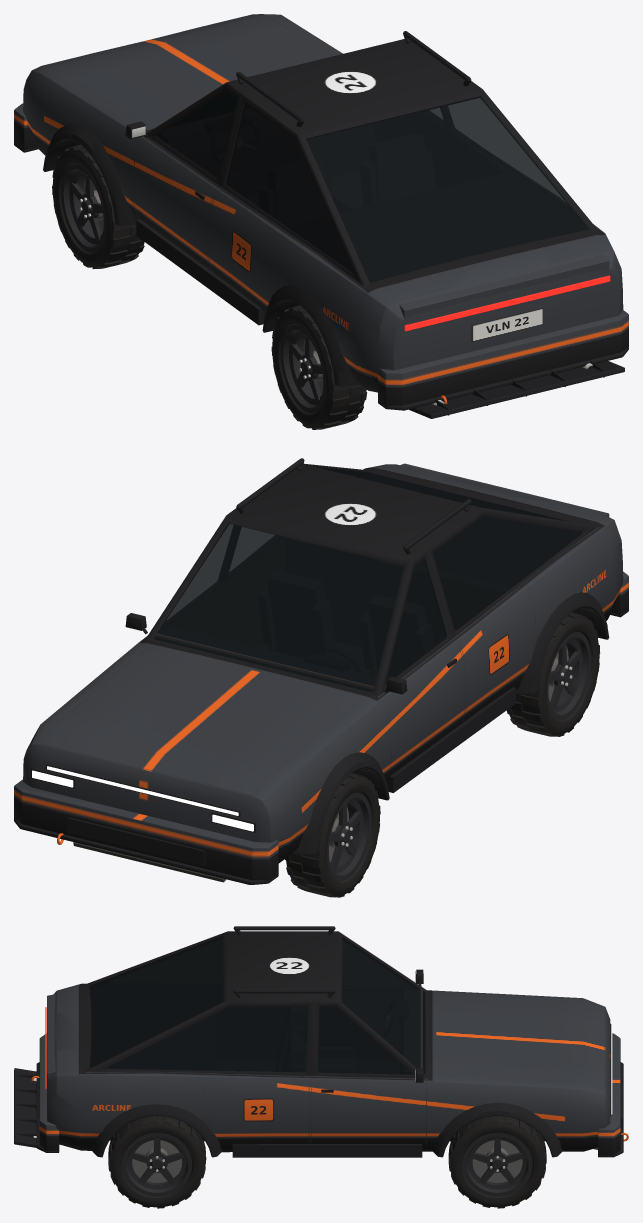
File: CAR-022_Export.fbx
3 views of the same model, one above another, from view 1: azimuth 30°, elevation 25°; view 2: azimuth 150°, elevation 25°; view 3: azimuth 270°, elevation 25° (orthographic). The views are drawn at different scales.
Visible parts, largest first — view 1: CAR-022_Body, CAR-022_Glass, CAR-022_Bumper_Rear, CAR-022_Accessories, CAR-022_Wheel_RL_Tire, CAR-022_Wheel_FL_Tire, CAR-022_Trim, CAR-022_Spoiler, CAR-022_Wheel_FL_Rim, CAR-022_Wheel_RL_Rim, CAR-022_Lights, CAR-022_Bumper_Front; view 2: CAR-022_Body, CAR-022_Glass, CAR-022_Bumper_Front, CAR-022_Trim, CAR-022_Wheel_FL_Tire, CAR-022_Wheel_RL_Tire, CAR-022_Wheel_FL_Rim, CAR-022_Wheel_RL_Rim, CAR-022_Lights, CAR-022_Accessories, CAR-022_Interior, CAR-022_Mirrors; view 3: CAR-022_Body, CAR-022_Glass, CAR-022_Wheel_RR_Tire, CAR-022_Wheel_FR_Tire, CAR-022_Wheel_RR_Rim, CAR-022_Wheel_FR_Rim, CAR-022_Trim, CAR-022_Accessories, CAR-022_Bumper_Front, CAR-022_Bumper_Rear, CAR-022_Spoiler, CAR-022_Lights.
Boxes of the visible parts, bbox=[...] form: CAR-022_Body: bbox=[23, 14, 623, 392]; CAR-022_Glass: bbox=[157, 90, 588, 282]; CAR-022_Bumper_Rear: bbox=[378, 310, 628, 410]; CAR-022_Accessories: bbox=[236, 31, 624, 418]; CAR-022_Wheel_RL_Tire: bbox=[271, 305, 367, 429]; CAR-022_Wheel_FL_Tire: bbox=[52, 144, 144, 269]; CAR-022_Trim: bbox=[136, 191, 592, 405]; CAR-022_Spoiler: bbox=[399, 254, 609, 322]; CAR-022_Wheel_FL_Rim: bbox=[61, 164, 105, 252]; CAR-022_Wheel_RL_Rim: bbox=[280, 325, 324, 413]; CAR-022_Lights: bbox=[404, 275, 610, 331]; CAR-022_Bumper_Front: bbox=[14, 103, 38, 152]; CAR-022_Body: bbox=[23, 463, 623, 863]; CAR-022_Glass: bbox=[154, 467, 581, 692]; CAR-022_Bumper_Front: bbox=[14, 779, 278, 884]; CAR-022_Trim: bbox=[57, 658, 515, 865]; CAR-022_Wheel_FL_Tire: bbox=[285, 773, 380, 897]; CAR-022_Wheel_RL_Tire: bbox=[506, 612, 600, 736]; CAR-022_Wheel_FL_Rim: bbox=[327, 792, 371, 880]; CAR-022_Wheel_RL_Rim: bbox=[546, 632, 590, 720]; CAR-022_Lights: bbox=[31, 764, 255, 832]; CAR-022_Accessories: bbox=[73, 458, 471, 882]; CAR-022_Interior: bbox=[147, 633, 374, 689]; CAR-022_Mirrors: bbox=[125, 613, 407, 694]; CAR-022_Body: bbox=[47, 931, 610, 1157]; CAR-022_Glass: bbox=[89, 936, 424, 1074]; CAR-022_Wheel_RR_Tire: bbox=[108, 1116, 206, 1208]; CAR-022_Wheel_FR_Tire: bbox=[448, 1116, 546, 1208]; CAR-022_Wheel_RR_Rim: bbox=[122, 1133, 192, 1196]; CAR-022_Wheel_FR_Rim: bbox=[462, 1133, 532, 1196]; CAR-022_Trim: bbox=[31, 1045, 628, 1157]; CAR-022_Accessories: bbox=[14, 926, 597, 1149]; CAR-022_Bumper_Front: bbox=[598, 1033, 623, 1157]; CAR-022_Bumper_Rear: bbox=[36, 1033, 59, 1152]; CAR-022_Spoiler: bbox=[47, 994, 55, 1079]; CAR-022_Lights: bbox=[45, 1007, 612, 1116].
Bounding box in the file's own units: 2.02 × 1.81 × 5.02.
Materials: 14 (2 with a texture image).
